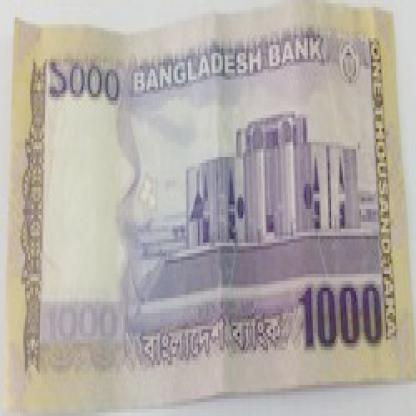One Thousand taka: (300, 281, 382, 350), (48, 56, 123, 108), (43, 302, 122, 346)
